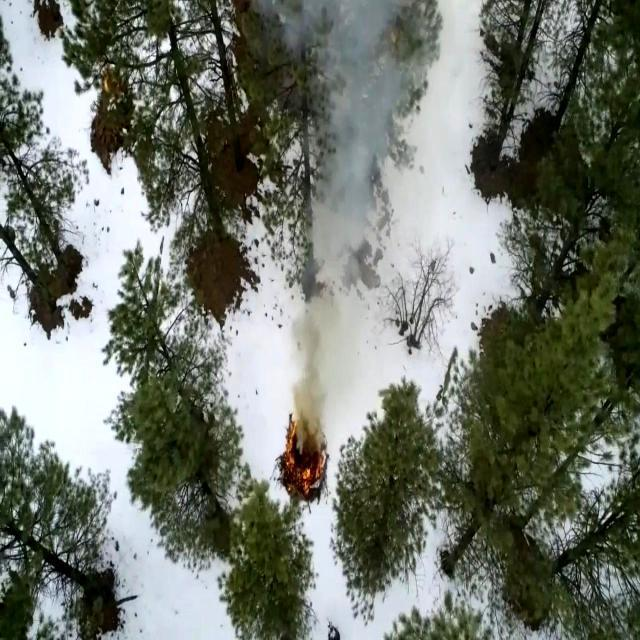Fire: (280, 422, 329, 498)
Smoke: (265, 0, 432, 403)
